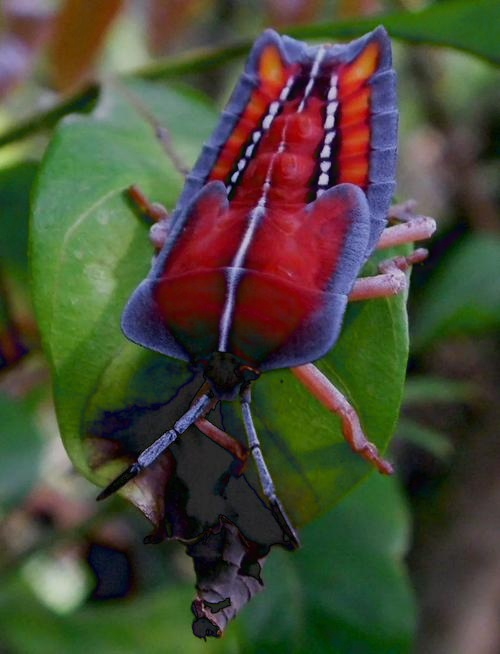Stink_Bug: (175, 20, 363, 418)
